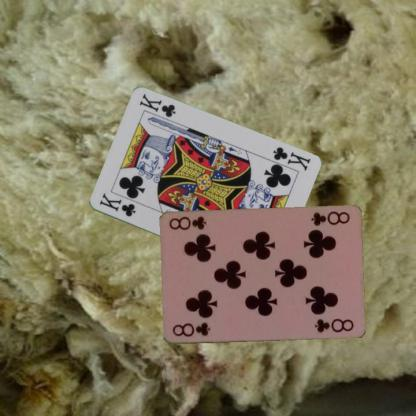8c: (308, 209, 351, 228), (170, 320, 211, 338)
Kc: (270, 144, 311, 173), (96, 190, 137, 218)
